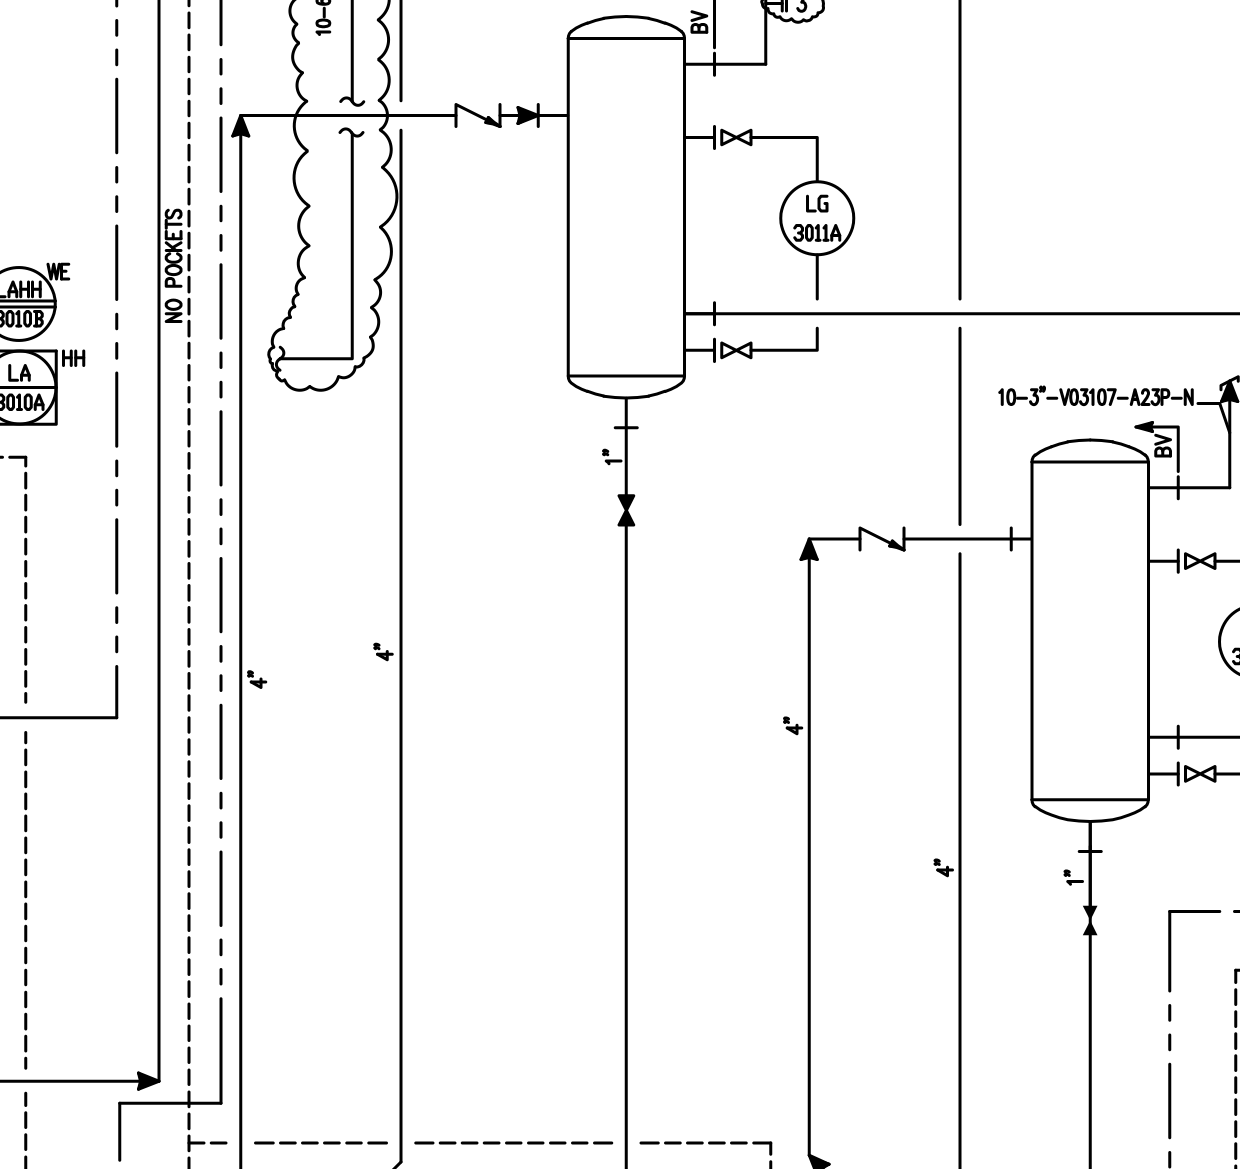Check Valve: (444, 97, 509, 132), (851, 522, 916, 557), (711, 121, 766, 153), (1174, 758, 1228, 790), (1173, 547, 1227, 579), (713, 333, 767, 365)
Instrument Tag: (770, 175, 865, 261)
